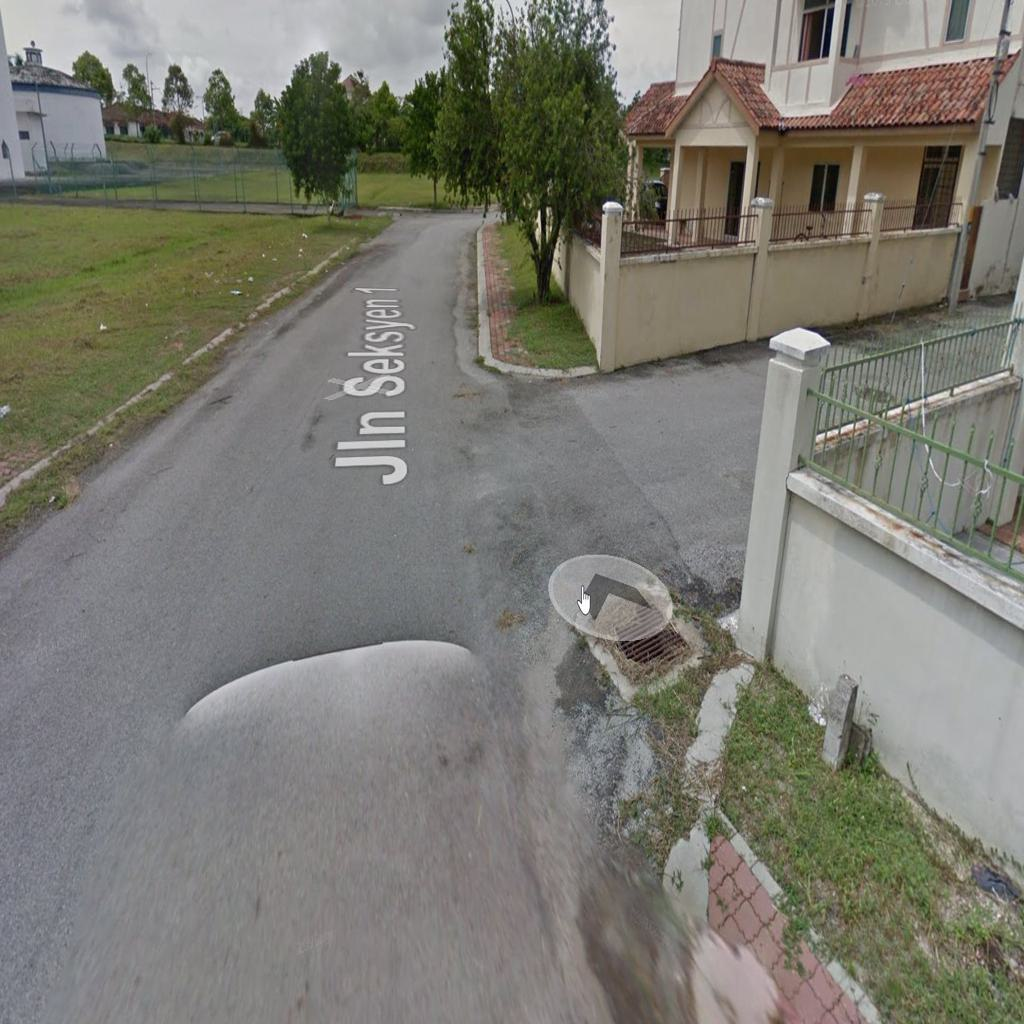Junction: (435, 311, 847, 883)
